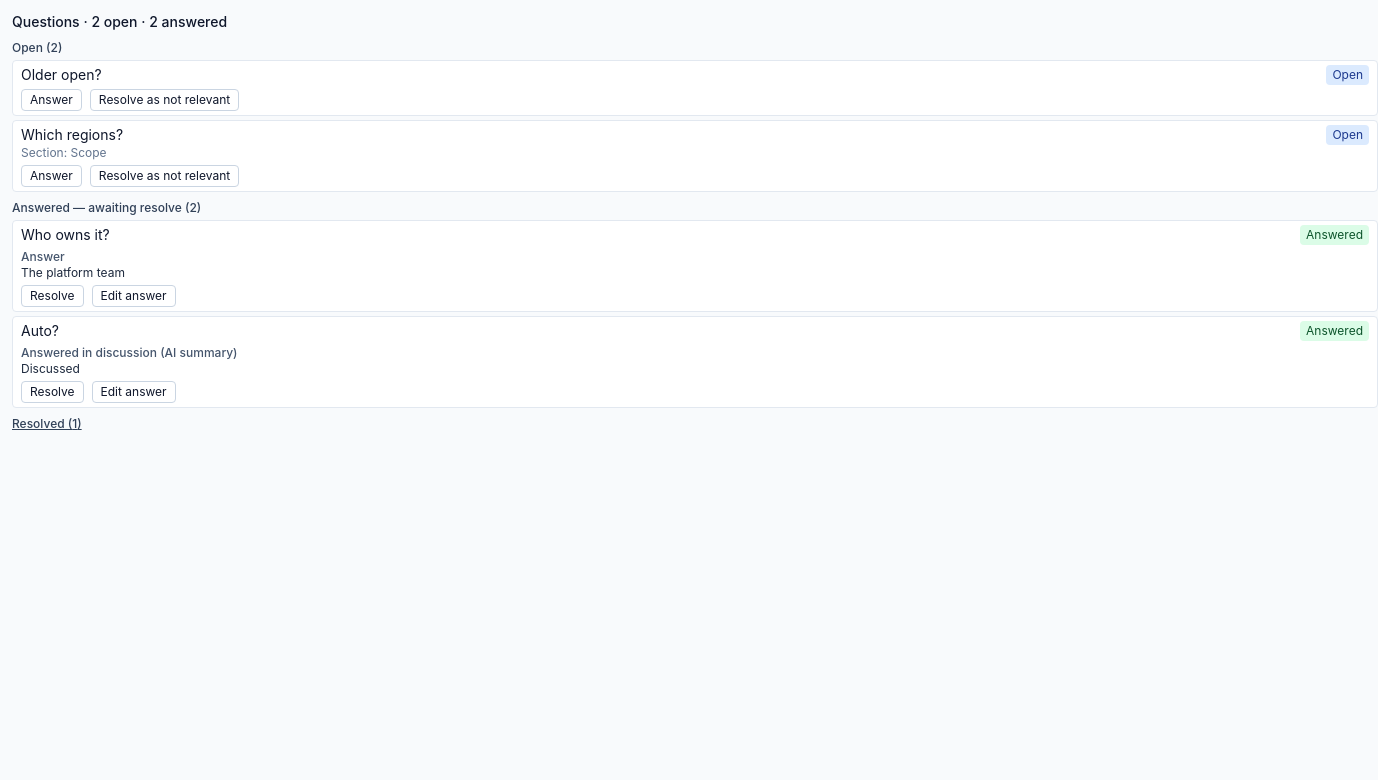
Scenario: QuestionsList › restores the text when the answer is rejected before streaming
The width and height of the screenshot is (1378, 780).
Click the button "Answer" below "Which regions?": {"x": 51, "y": 176} 21,165 -> 82,187
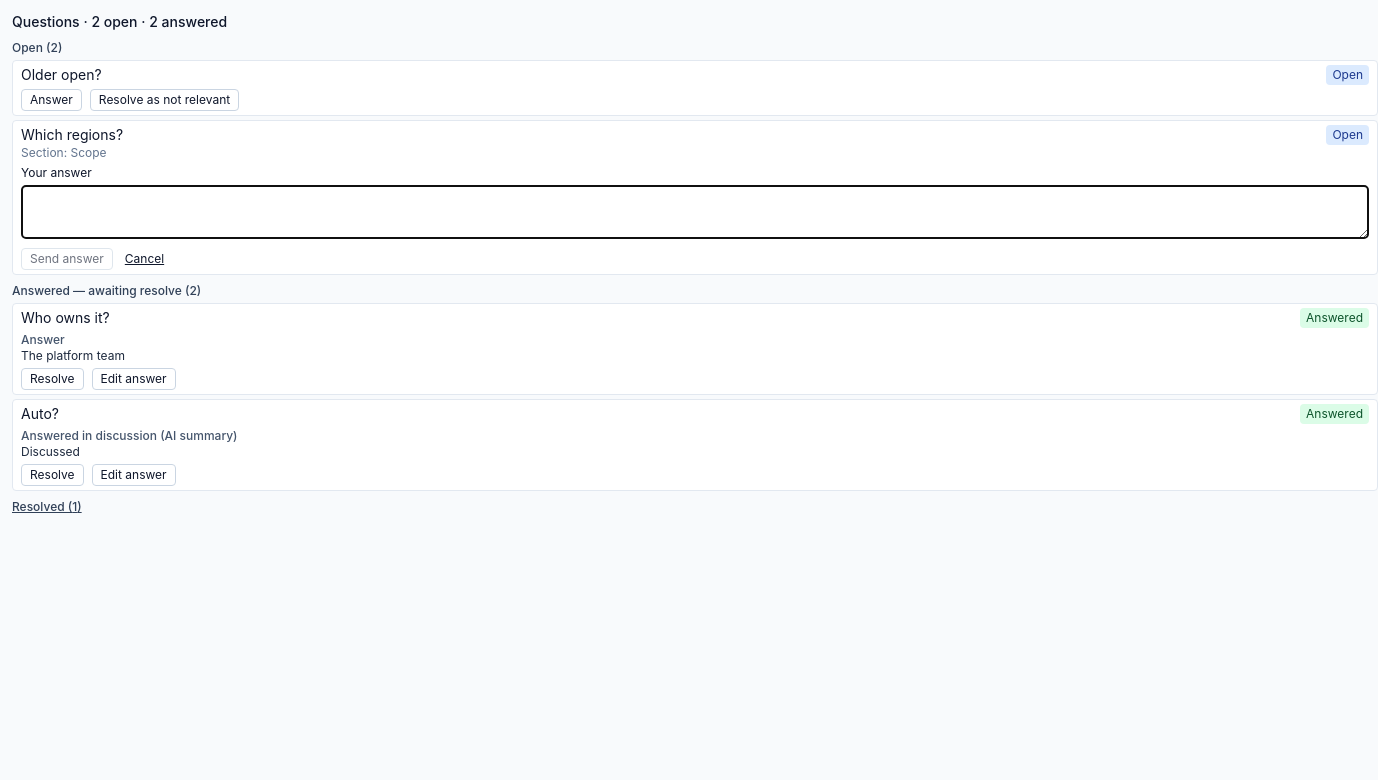
In the text box labelled "Your answer": {"x": 695, "y": 212} 21,185 -> 1369,239, type "EU only"
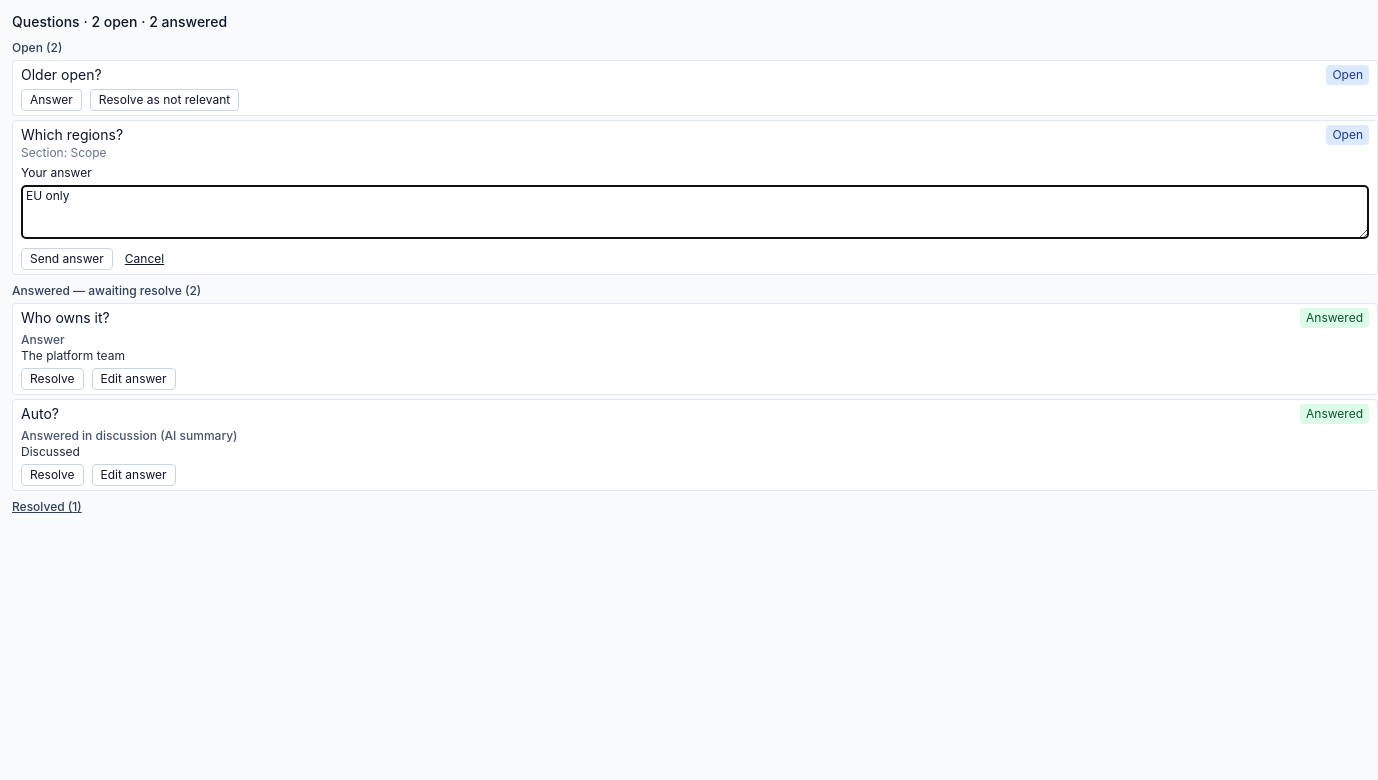
Click the button "Send answer": {"x": 67, "y": 259} 21,248 -> 113,270
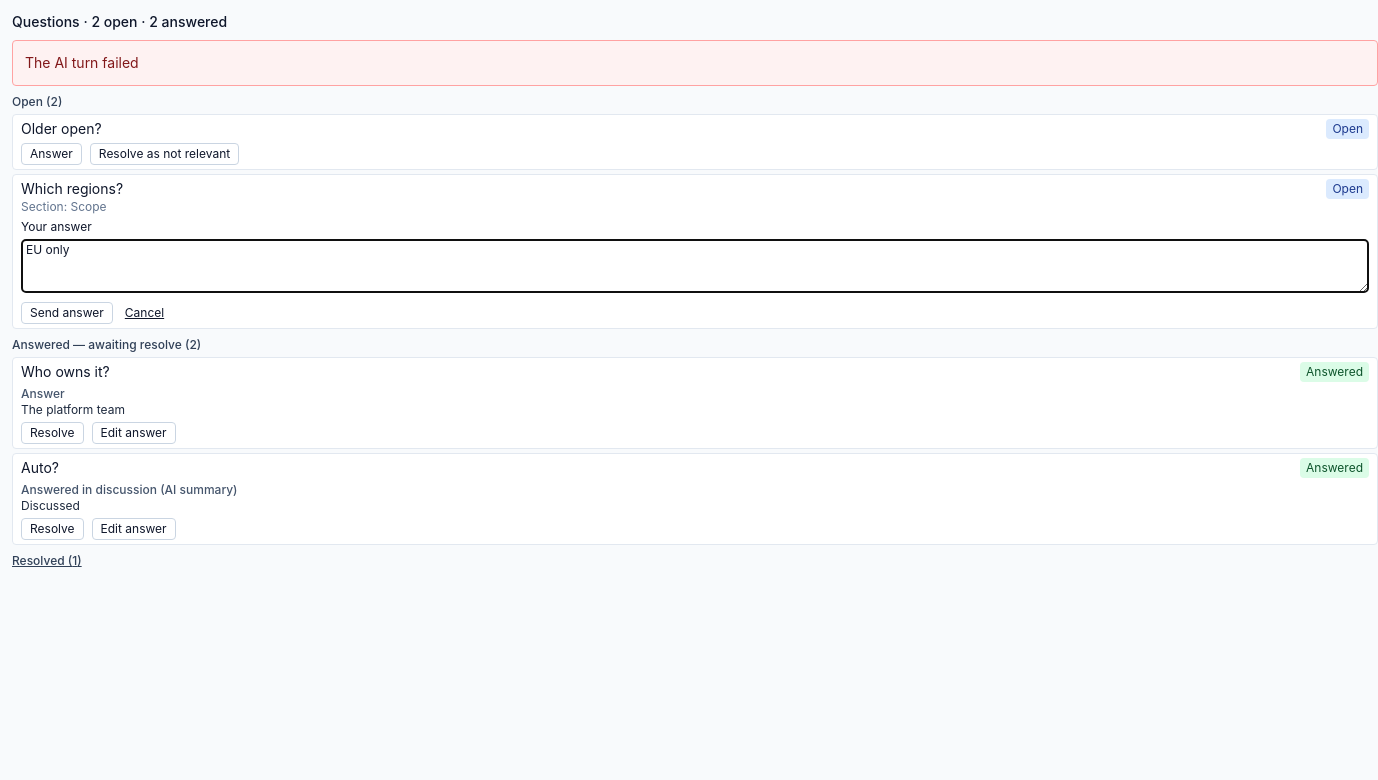
Now the text box labelled "Your answer" holds "EU only", box 21,239 -> 1369,293
Now the message "The AI turn failed" is shown, box 12,40 -> 1377,86
